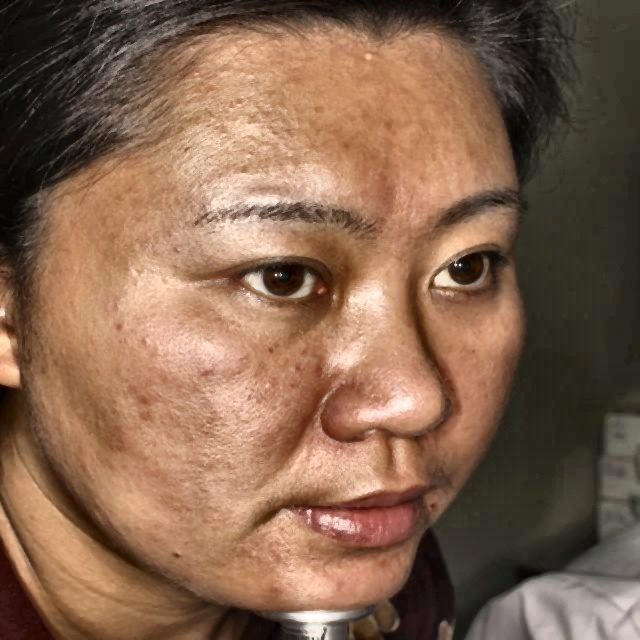comedone: (138, 383, 168, 411)
